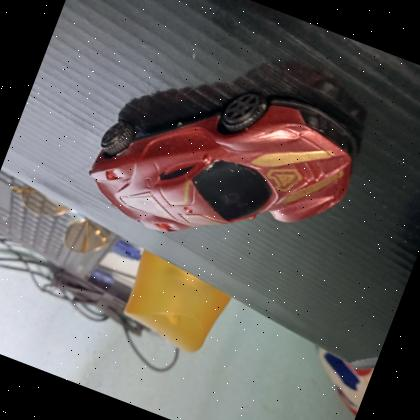Car: (70, 34, 377, 296)
